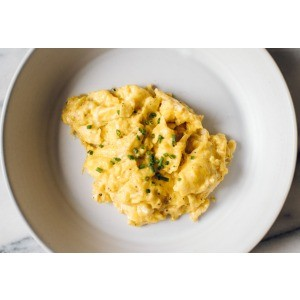egg_brain food: (92, 102, 206, 213)
